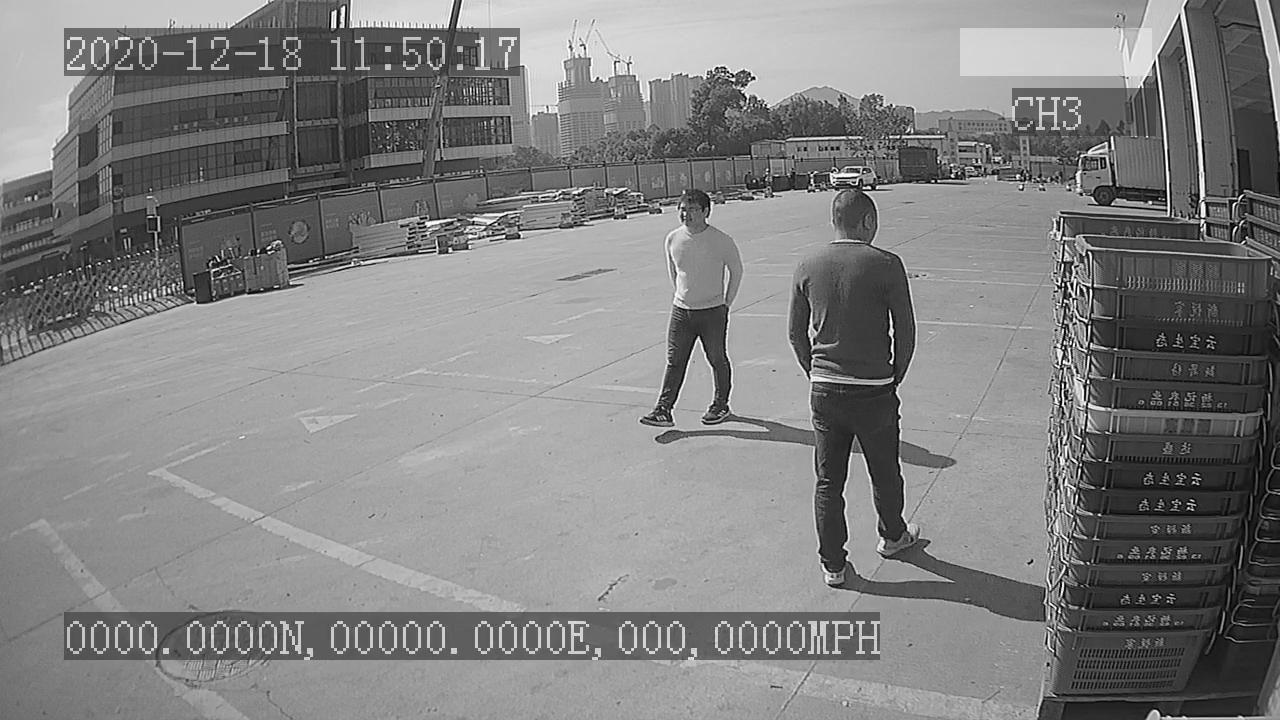person: (784, 183, 927, 592), (634, 190, 749, 431)
